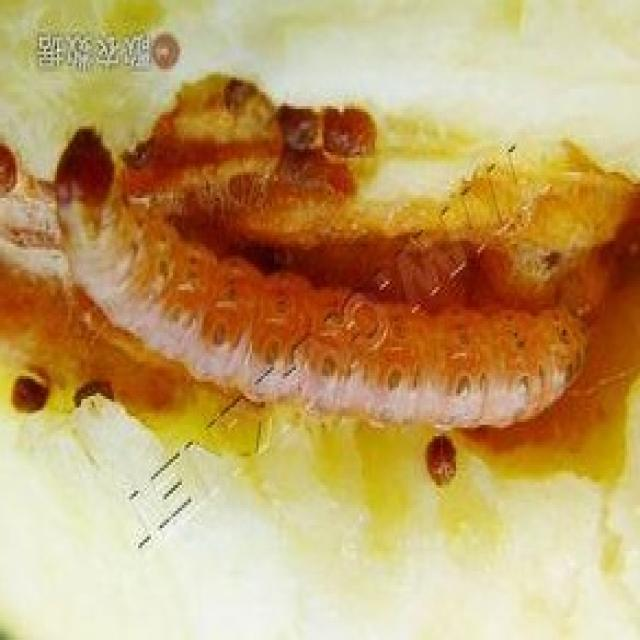peach borer: (50, 126, 592, 439)
